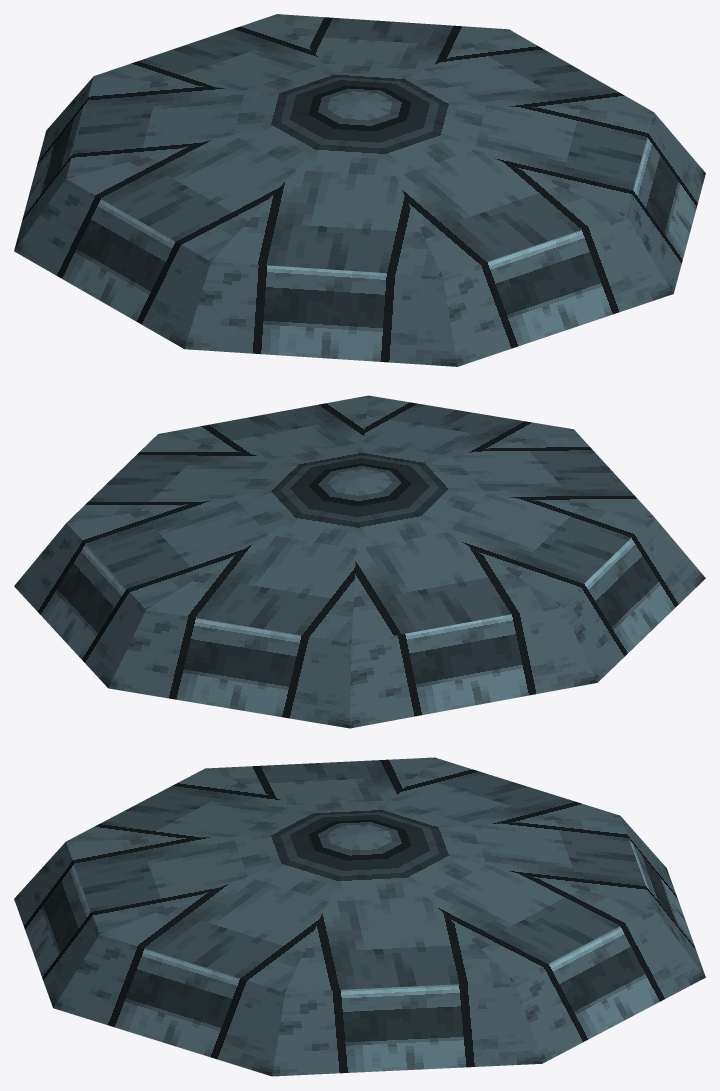
Rendered from primary_116.glb.
3 views of the same model, one above another, from view 1: azimuth 30°, elevation 25°; view 2: azimuth 150°, elevation 25°; view 3: azimuth 270°, elevation 25° (orthographic). The views are drawn at different scales.
Parts seen in each view (by area): view 1: Object; view 2: Object; view 3: Object.
Boxes of the visible parts, left/top/right/bottom form: Object: left=14, top=14, right=705, bottom=366; Object: left=14, top=395, right=705, bottom=728; Object: left=14, top=757, right=705, bottom=1076.
Bounding box in the file's own units: 0.9302 × 0.1654 × 0.9836.
Materials: 2 (2 with a texture image).
